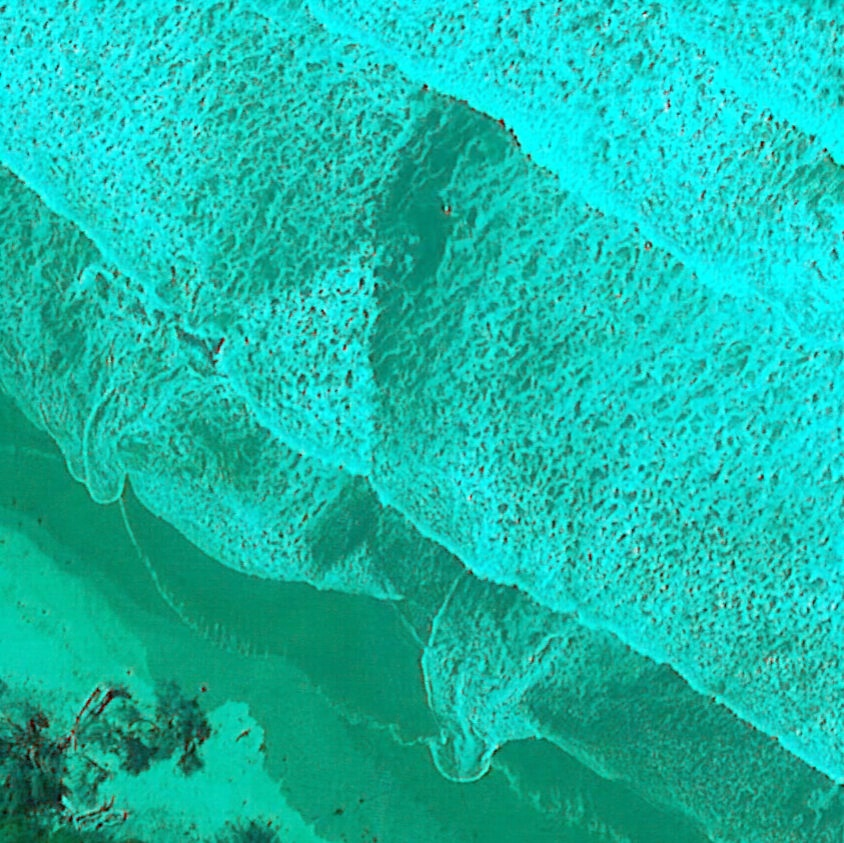rip_current: (278, 80, 598, 554)
